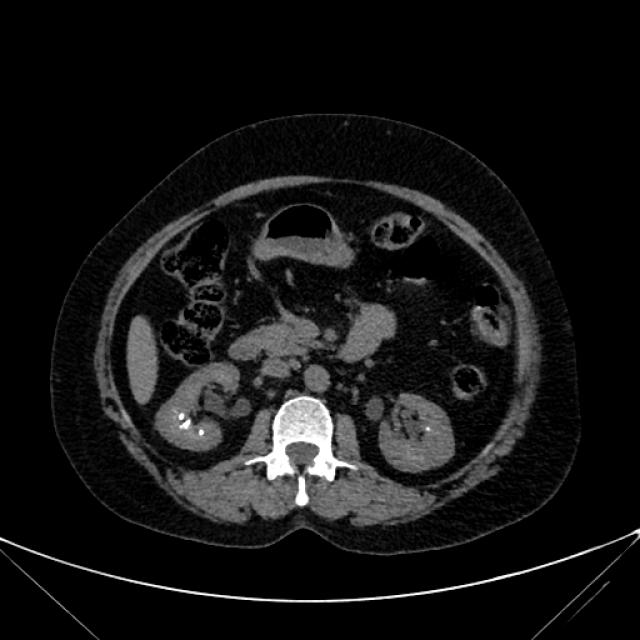kidney: (168, 362, 224, 450), (390, 399, 443, 466)
stone: (181, 421, 189, 428), (199, 430, 204, 436), (180, 414, 184, 420), (427, 427, 430, 431)
